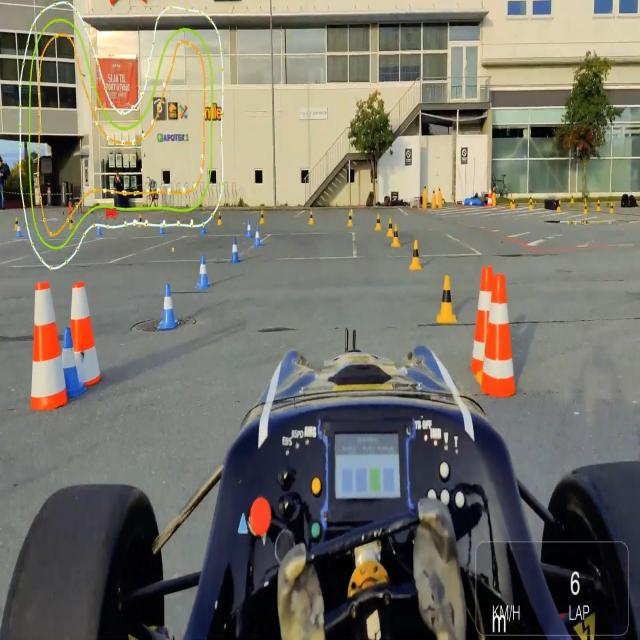blue_cone: (56, 327, 88, 398), (158, 283, 179, 329), (196, 253, 211, 289), (230, 236, 240, 262), (254, 226, 262, 247), (246, 218, 253, 237), (200, 219, 207, 234), (96, 219, 102, 236), (159, 218, 165, 235), (16, 221, 22, 237)
large_orange_cone: (30, 280, 66, 411), (482, 274, 516, 397), (66, 282, 100, 388), (471, 267, 500, 373)
yellow_cone: (437, 276, 457, 322), (410, 240, 422, 270), (392, 224, 401, 247), (347, 209, 355, 227), (375, 212, 382, 232), (387, 218, 394, 236), (308, 210, 314, 227), (217, 210, 223, 226), (260, 210, 266, 224)
